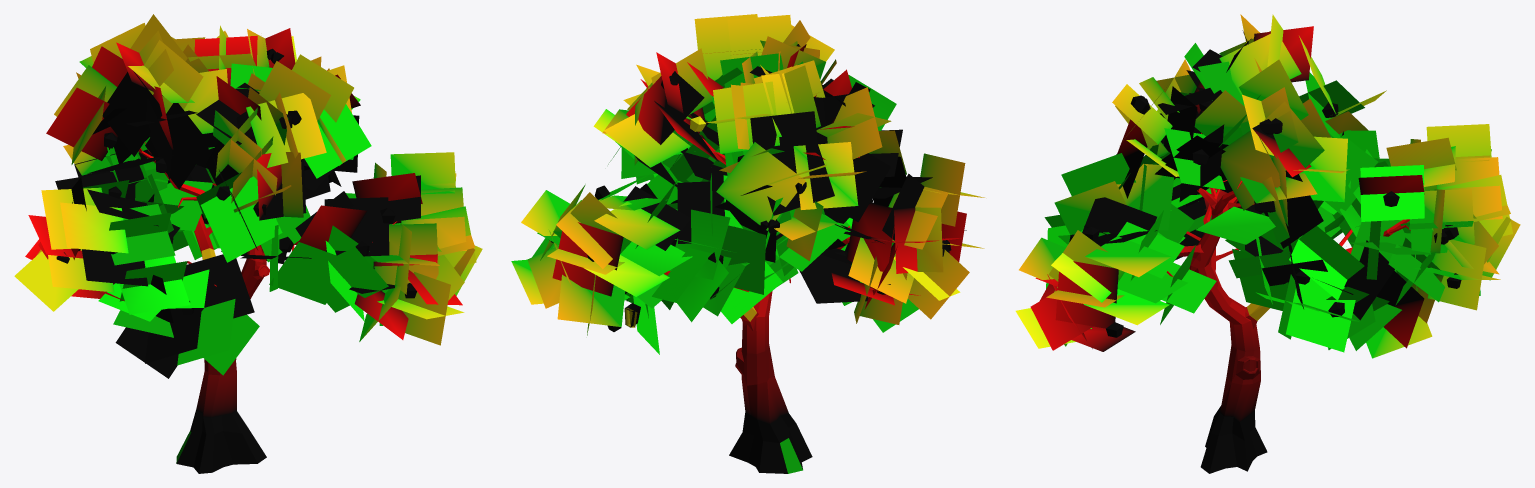
Rendered from SM_Fruit_Tree_01_apples.glb.
The picture shows the model from 3 angles, left to right: view 1: azimuth 30°, elevation 25°; view 2: azimuth 150°, elevation 25°; view 3: azimuth 270°, elevation 25°; orthographic projection.
Visible parts, largest first — view 1: SM_Fruit_Tree_01_applesLOD0; view 2: SM_Fruit_Tree_01_applesLOD0; view 3: SM_Fruit_Tree_01_applesLOD0.
Part boxes in pixels (<box>): SM_Fruit_Tree_01_applesLOD0: <box>14,14,482,473</box>; SM_Fruit_Tree_01_applesLOD0: <box>511,14,984,473</box>; SM_Fruit_Tree_01_applesLOD0: <box>1015,14,1520,473</box>.
Size of what is drawn, in the model's own units: 6.5 by 6.58 by 7.25.
Materials: 2 (2 with a texture image).
